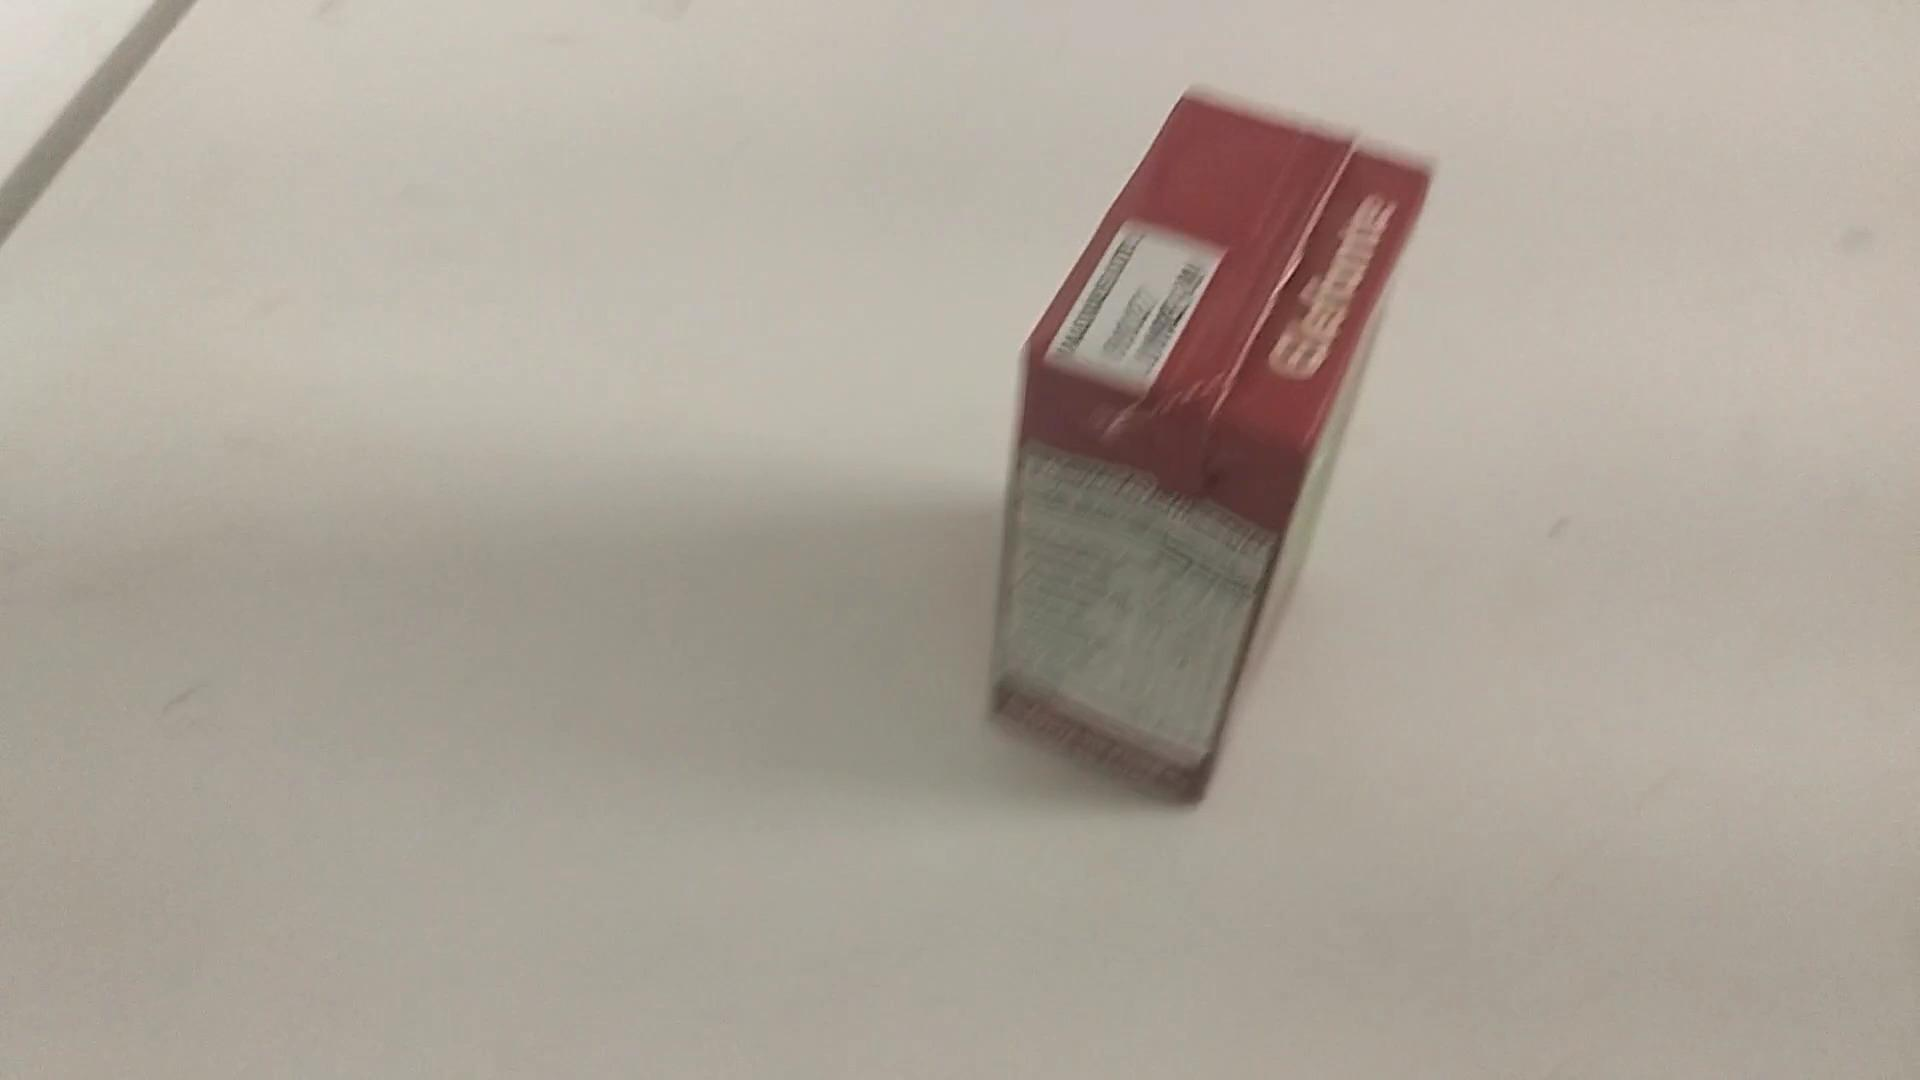tomate: (959, 61, 1461, 814)
